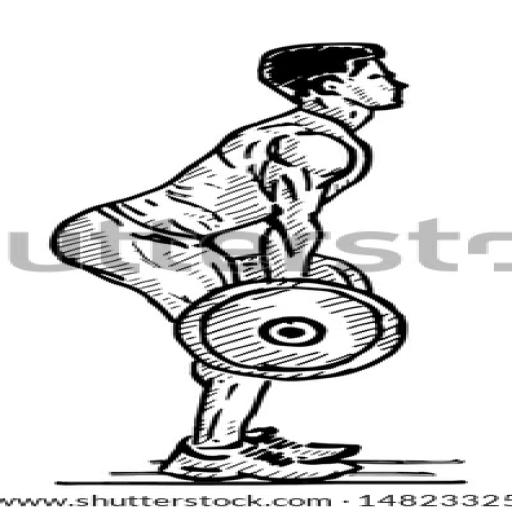exercise: (44, 40, 416, 483)
